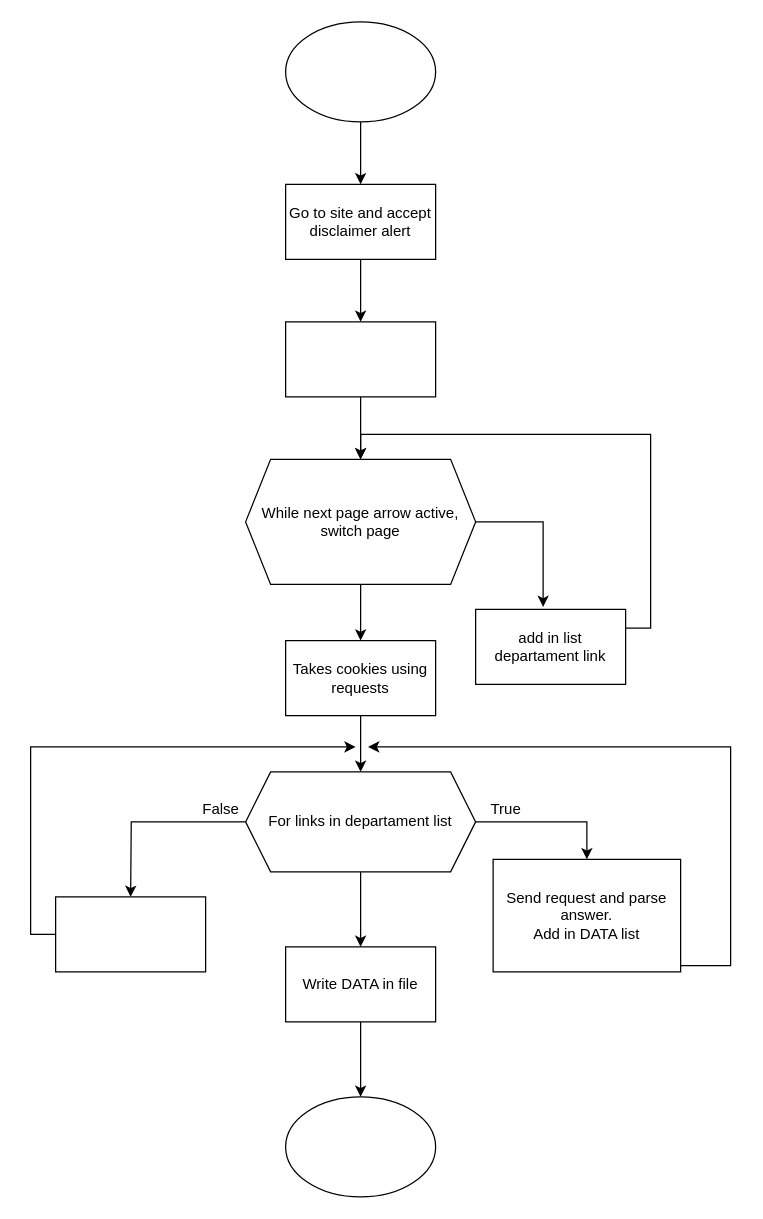
The diagram is 763 pixels wide and 1219 high, and some of its shapes have lost their labels. Each missing label, with the box of its shape:
Click Search: (284, 321, 436, 397)
END: (284, 1096, 436, 1197)
Get new cookues: (54, 896, 206, 972)
Start: (284, 21, 436, 122)
